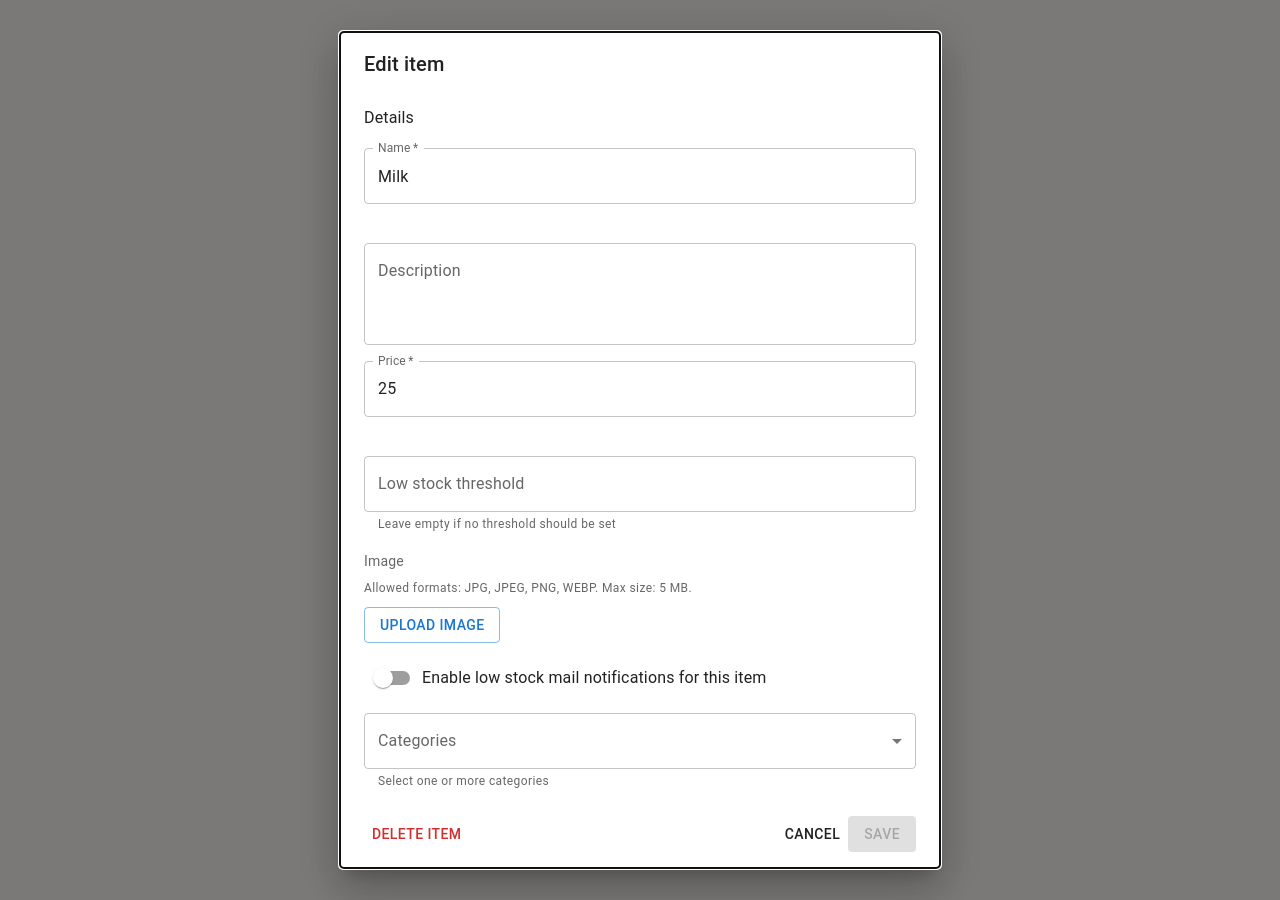
Edit Mode in ItemFormModal - user story tests › owner: cancelling delete confirmation aborts deletion
Click the button "Delete Item".
click(417, 834)  # box left=364, top=816, right=469, bottom=852
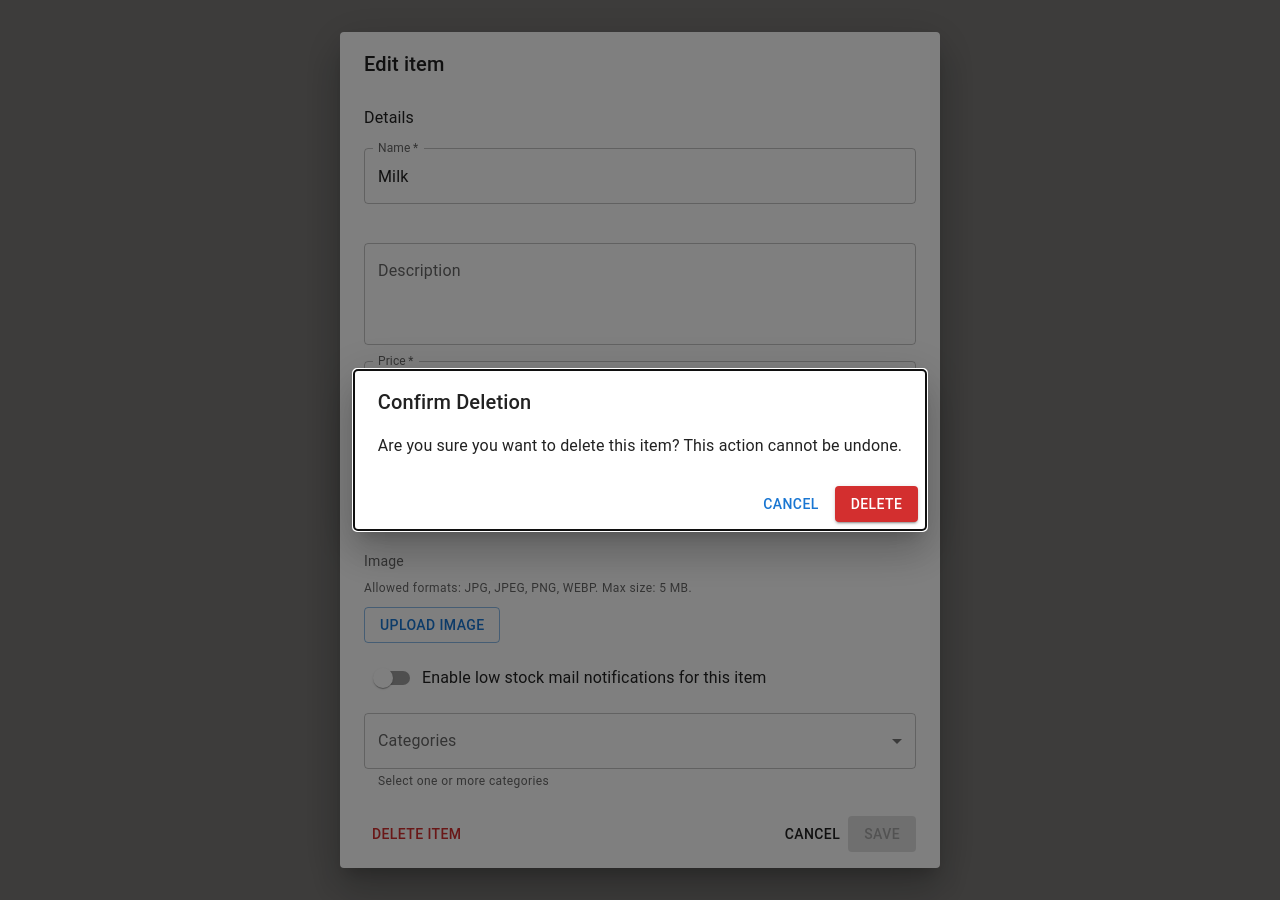
Click the button "Cancel".
click(791, 504)  # box left=755, top=486, right=827, bottom=522
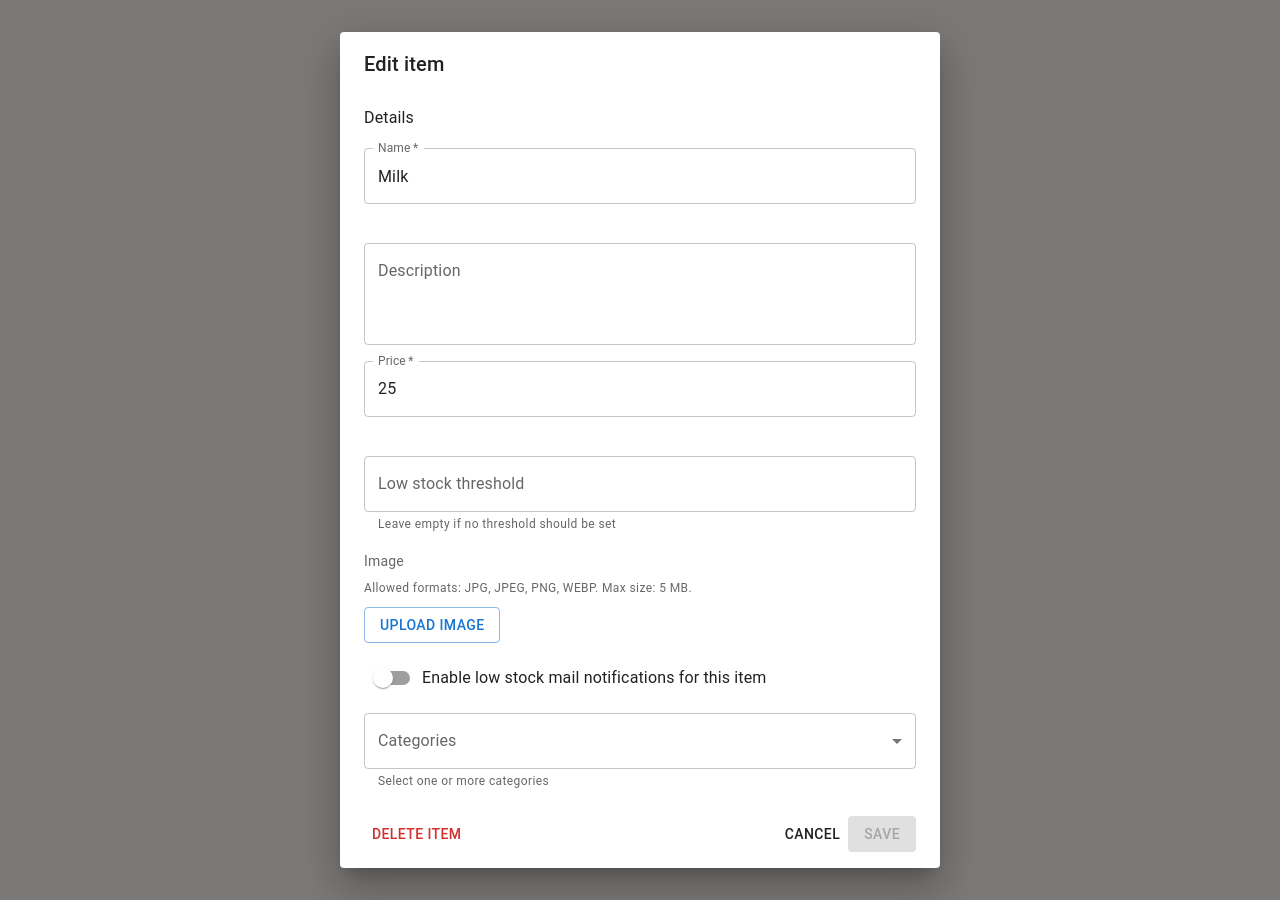
Expected: the text "Are you sure you want to delete this item" is gone
